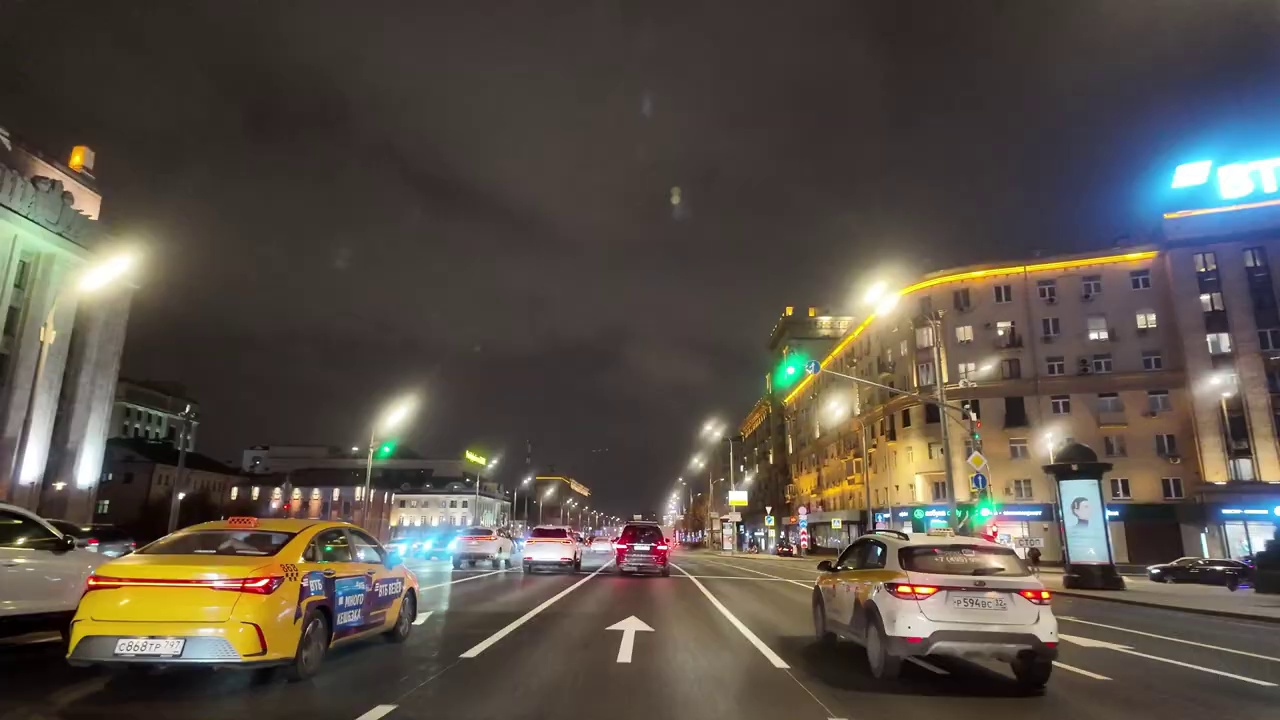acesa: (78, 248, 140, 299), (855, 267, 912, 317), (373, 391, 419, 443), (695, 416, 724, 451)
